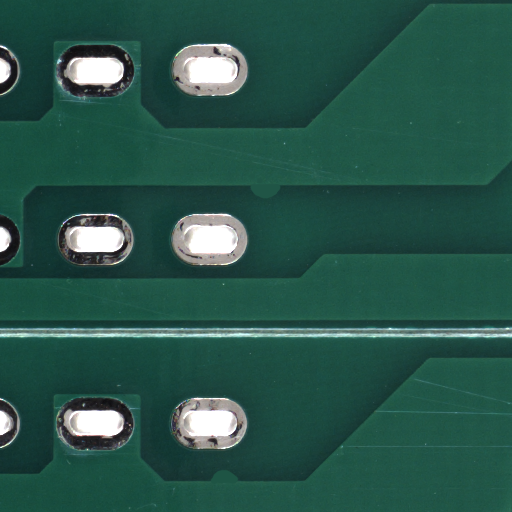Spur: (267, 189, 304, 204), (225, 475, 256, 488)
